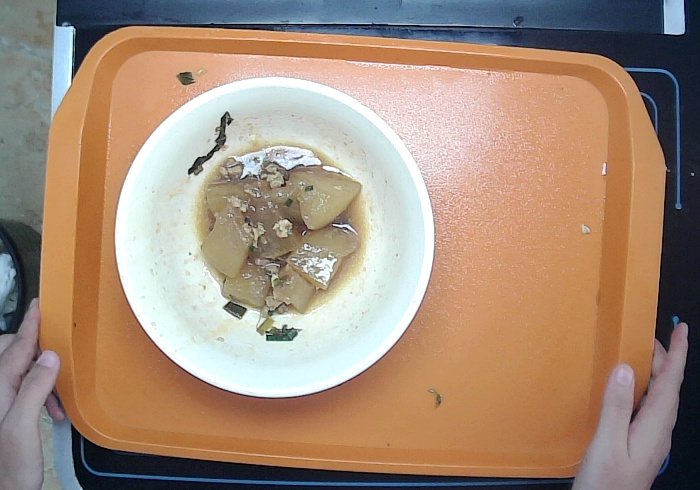ZNLD-Da_Tang_Wan: (112, 77, 437, 400)
